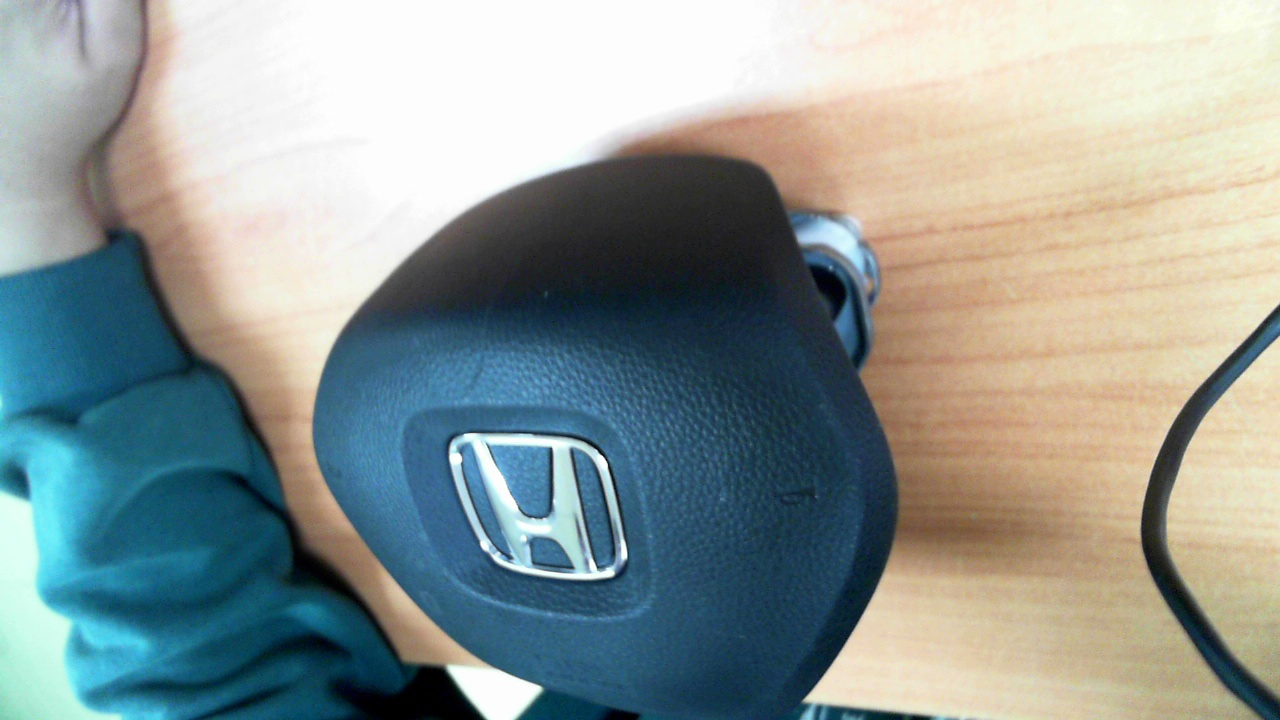Airbag: (312, 152, 940, 718)
Honda: (448, 432, 628, 580)
